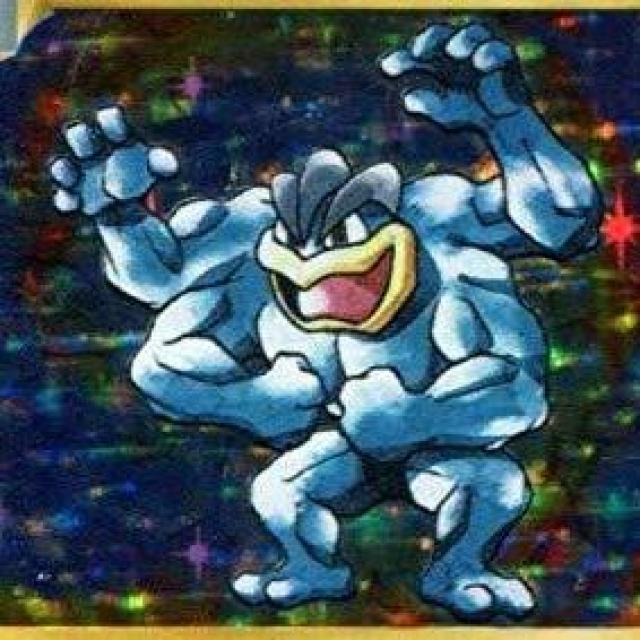Machamp: (132, 137, 553, 616)
